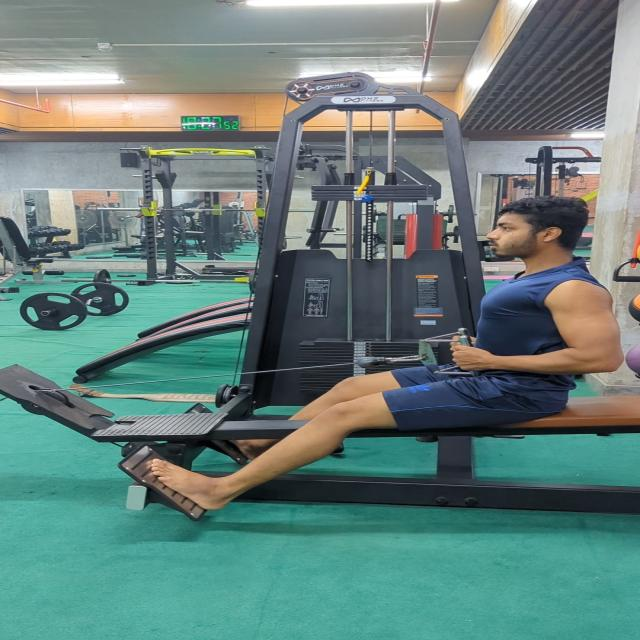Normal_RowingMachineExercise: (150, 194, 624, 514)
